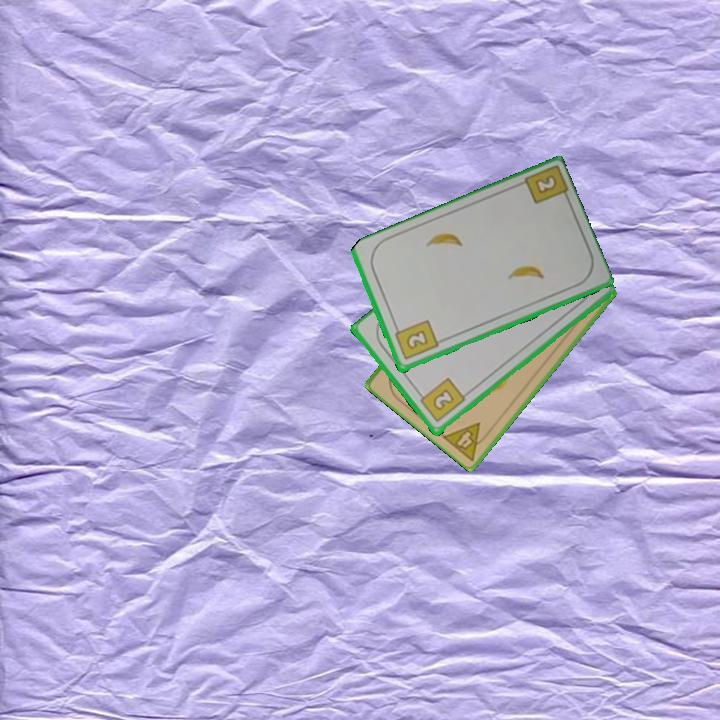2b: (415, 375, 468, 425), (391, 317, 441, 363), (531, 171, 560, 197)
4p: (439, 419, 495, 464)
